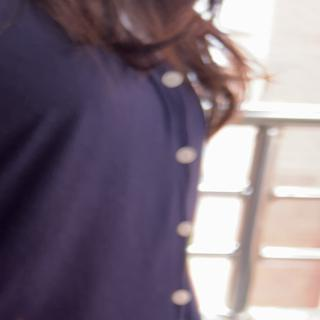fire: (13, 316, 42, 320)
